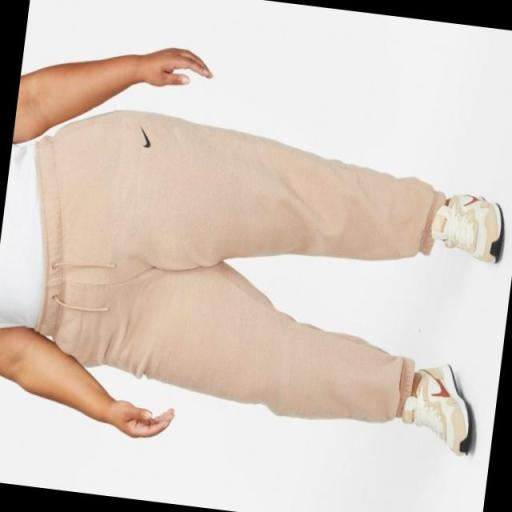Nike: (134, 123, 155, 154)
